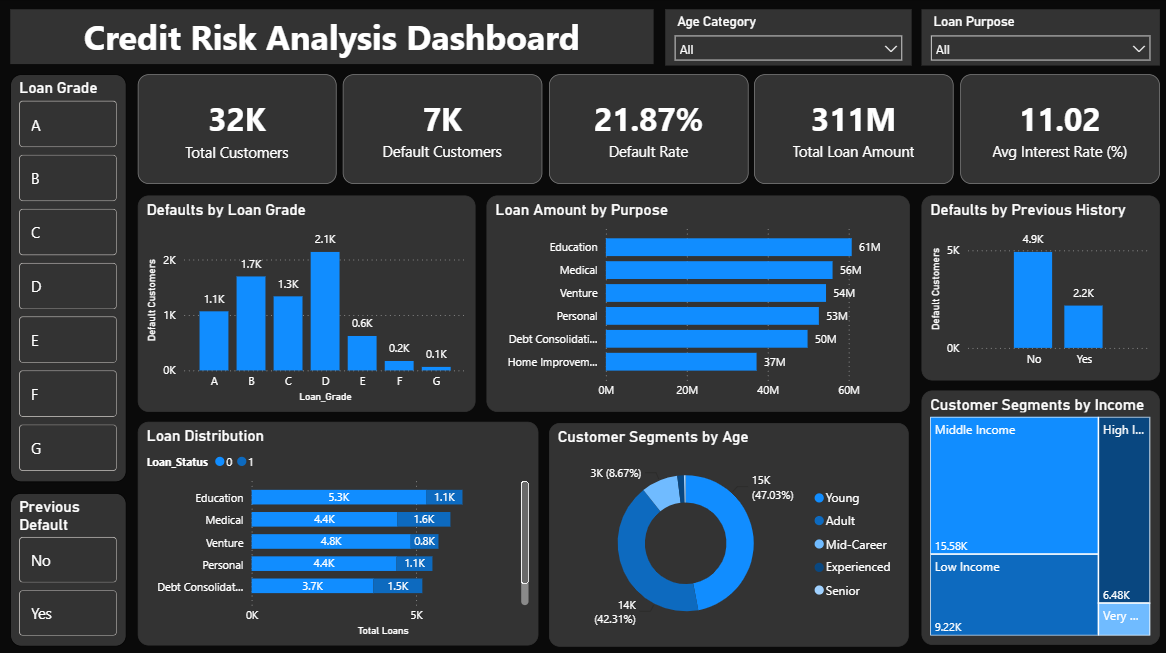

Layout of this report page (visuals, bound fields, positions):
{"tool":"powerbi","page":{"name":"Page 1","canvas":[1280,720],"ordinal":0},"visuals":[{"type":"cardVisual","fields":{"Data":["Loan_Data.Default Rate (%)"]},"box":[601.2,83.9,218,119.8],"z":0},{"type":"cardVisual","fields":{"Data":["Loan_Data.Total Customers"]},"box":[151.8,83.4,217.5,120.4],"z":1000},{"type":"cardVisual","fields":{"Data":["Loan_Data.Default Customers"]},"box":[376.2,83.9,218,119.8],"z":2000},{"type":"cardVisual","fields":{"Data":["Loan_Data.Total Loan Amount"]},"box":[826.2,83.9,218,119.8],"z":3000},{"type":"cardVisual","fields":{"Data":["Loan_Data.Average Interest Rate"]},"box":[1051.2,83.9,218.6,119.8],"z":4000},{"type":"clusteredColumnChart","title":"Defaults by Loan Grade","fields":{"Category":["Loan_Data.Loan_Grade"],"Y":["Loan_Data.Default Customers"]},"box":[151.2,215.6,369.9,236.6],"z":5000},{"type":"clusteredBarChart","title":"Loan Amount by Purpose","fields":{"Category":["Loan_Data.Loan_Purpose"],"Y":["Loan_Data.Total Loan Amount"]},"box":[533.4,216.1,463,236.6],"z":6000},{"type":"donutChart","title":"Customer Segments by Age","fields":{"Category":["Loan_Data.Age_Category"],"Y":["Loan_Data.Total Customers"]},"box":[601.8,465.1,393.9,244.8],"z":7000},{"type":"clusteredColumnChart","title":"Defaults by Previous History","fields":{"Category":["Loan_Data.Previous_Default"],"Y":["Loan_Data.Default Customers"]},"box":[1009.3,215.6,260.6,202.2],"z":8000},{"type":"advancedSlicerVisual","title":"Loan Grade","fields":{"Values":["Loan_Data.Loan_Grade"]},"box":[12,83.9,127.3,446.2],"z":9000},{"type":"treemap","title":"Customer Segments by Income","fields":{"Group":["Loan_Data.Income_Category"],"Values":["CountNonNull(Loan_Data.Income_Category)"]},"box":[1009.3,429.8,260.6,278.5],"z":10000},{"type":"advancedSlicerVisual","title":"Previous Default","fields":{"Values":["Loan_Data.Previous_Default"]},"box":[12,542.1,127.3,167.7],"z":11000},{"type":"textbox","box":[12,12,703.8,60],"z":12000},{"type":"slicer","fields":{"Values":["Loan_Data.Age_Category"]},"box":[729.2,12,269.5,61.4],"z":13000},{"type":"slicer","fields":{"Values":["Loan_Data.Loan_Purpose"]},"box":[1009.3,12,260.6,61.4],"z":14000},{"type":"barChart","title":"Loan Distribution","fields":{"Category":["Loan_Data.Loan_Purpose"],"Y":["CountNonNull(Loan_Data.Loan_Purpose)"],"Series":["Loan_Data.Loan_Status"]},"box":[151.8,463.7,438,244.8],"z":15000}]}

Visuals, with their boxes in screenshot pixels (x1, y1, x2, y2), scaled from the page's 1280x720 canvas onto the 1166x653 screenshot:
cardVisual - Loan_Data.Default Rate (%): bbox(548, 76, 746, 185)
cardVisual - Loan_Data.Total Customers: bbox(138, 76, 336, 185)
cardVisual - Loan_Data.Default Customers: bbox(343, 76, 541, 185)
cardVisual - Loan_Data.Total Loan Amount: bbox(753, 76, 951, 185)
cardVisual - Loan_Data.Average Interest Rate: bbox(958, 76, 1157, 185)
"Defaults by Loan Grade" clusteredColumnChart: bbox(138, 196, 475, 410)
"Loan Amount by Purpose" clusteredBarChart: bbox(486, 196, 908, 411)
"Customer Segments by Age" donutChart: bbox(548, 422, 907, 644)
"Defaults by Previous History" clusteredColumnChart: bbox(919, 196, 1157, 379)
"Loan Grade" advancedSlicerVisual: bbox(11, 76, 127, 481)
"Customer Segments by Income" treemap: bbox(919, 390, 1157, 642)
"Previous Default" advancedSlicerVisual: bbox(11, 492, 127, 644)
textbox: bbox(11, 11, 652, 65)
slicer - Loan_Data.Age_Category: bbox(664, 11, 910, 67)
slicer - Loan_Data.Loan_Purpose: bbox(919, 11, 1157, 67)
"Loan Distribution" barChart: bbox(138, 421, 537, 643)
